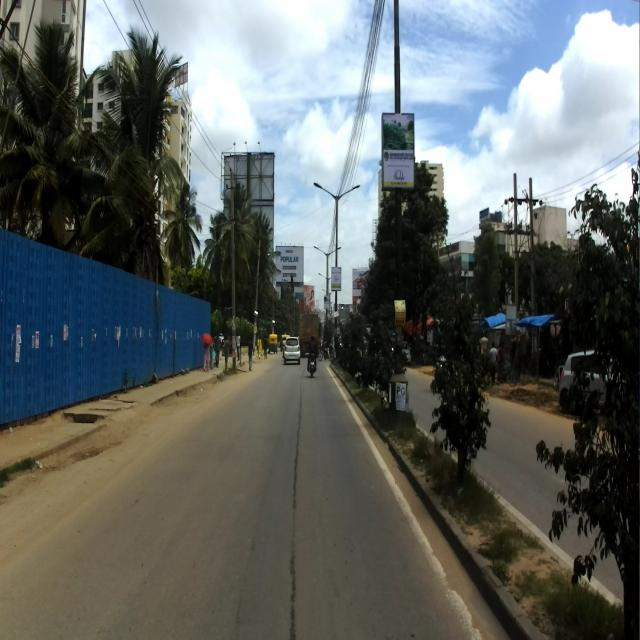car: (558, 349, 625, 414)
